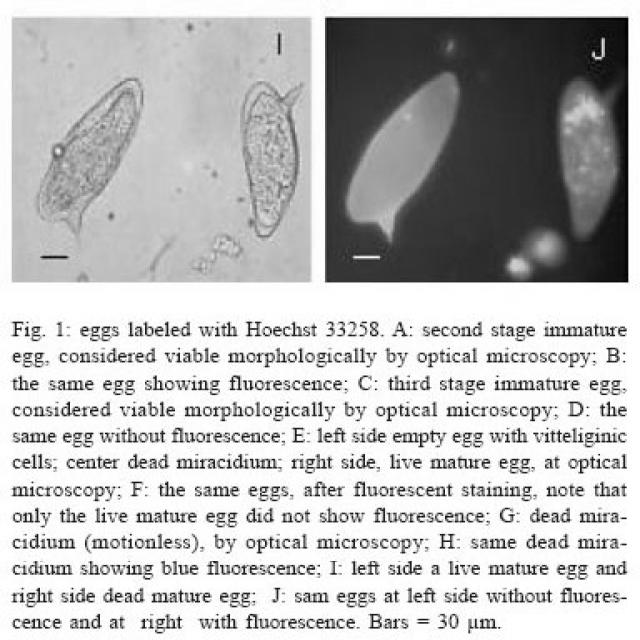Schistosoma: (32, 75, 146, 245), (230, 68, 312, 245)
